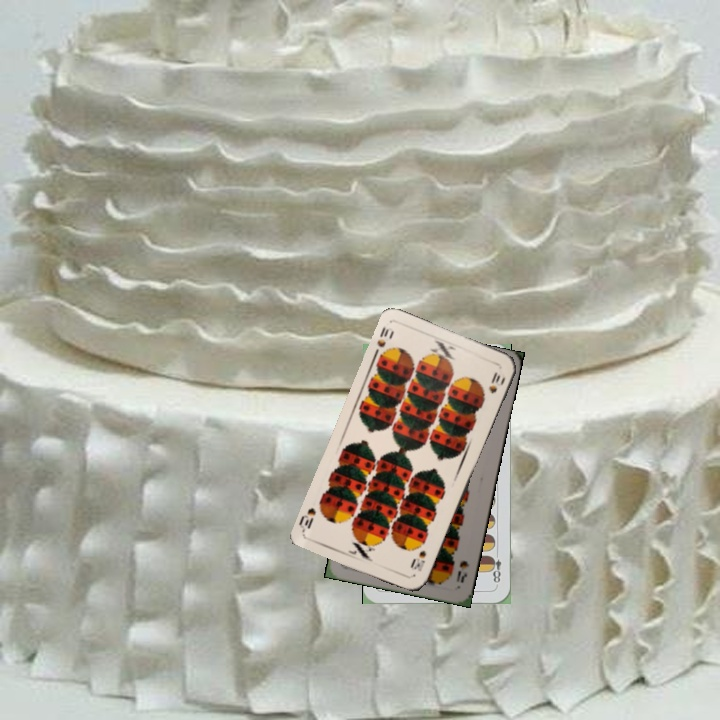E8: (487, 547, 504, 587)
S10: (409, 546, 429, 574), (373, 323, 391, 350)
S8: (452, 556, 472, 585)
